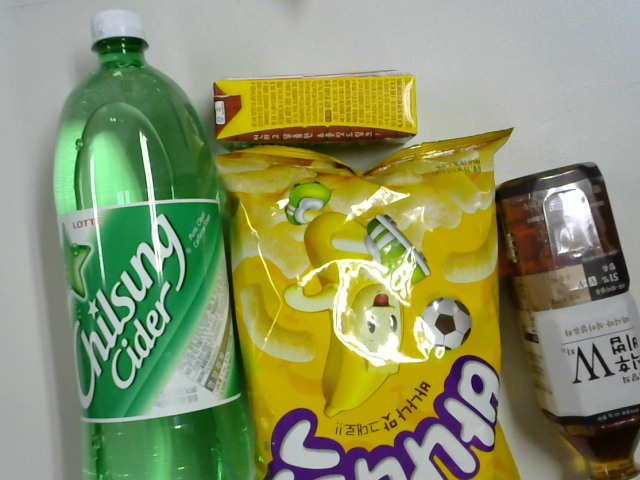Banana_Kick: (213, 138, 521, 480)
Chilseong_Cider_1.5L: (47, 8, 252, 480)
Choco_E_Mong: (215, 68, 421, 154)
Post-meal_recipe_W_tea_500ml: (491, 164, 640, 479)
